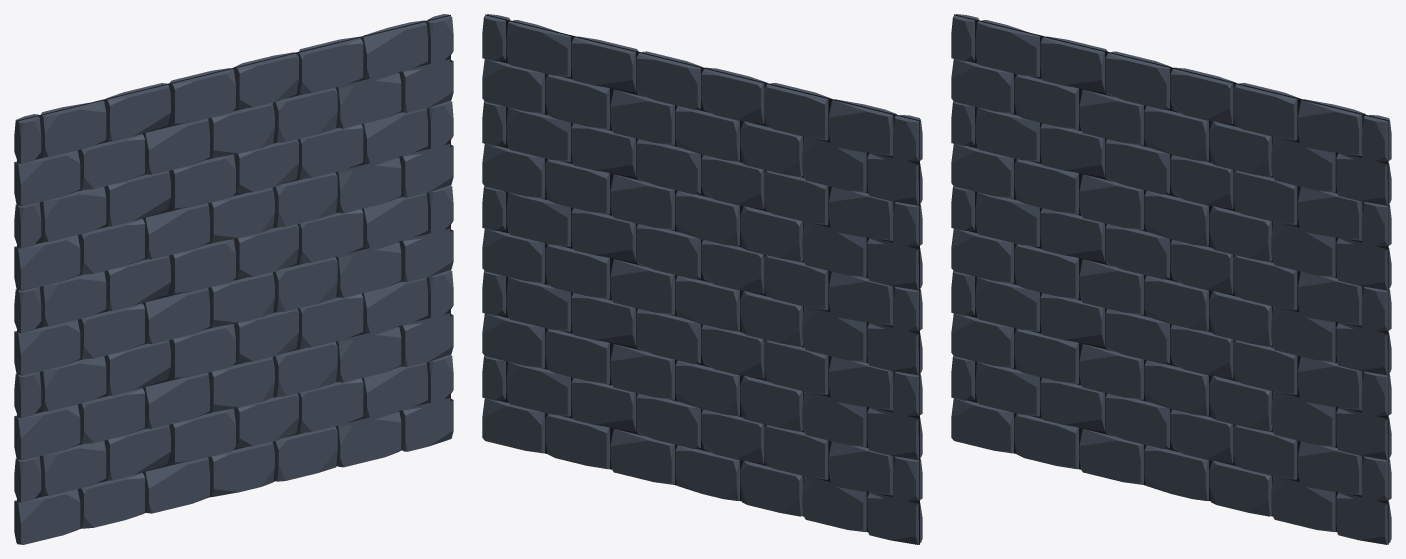
Rendered from StoneWall.fbx.
The picture shows the model from 3 angles, left to right: view 1: azimuth 30°, elevation 25°; view 2: azimuth 150°, elevation 25°; view 3: azimuth 330°, elevation 25°; orthographic projection.
Parts seen in each view (by area): view 1: Plane.008, Plane.002, Plane, Plane.001; view 2: Plane.001, Plane, Plane.002, Plane.008; view 3: Plane.008, Plane, Plane.002, Plane.001.
Boxes of the visible parts, left/top/right/bottom form: Plane.008: left=17, top=16, right=453, bottom=544; Plane.002: left=17, top=69, right=237, bottom=544; Plane: left=197, top=14, right=450, bottom=497; Plane.001: left=14, top=14, right=448, bottom=542; Plane.001: left=482, top=15, right=919, bottom=544; Plane: left=672, top=66, right=919, bottom=544; Plane.002: left=485, top=14, right=728, bottom=485; Plane.008: left=487, top=14, right=922, bottom=542; Plane.008: left=951, top=15, right=1388, bottom=544; Plane: left=1137, top=59, right=1388, bottom=544; Plane.002: left=954, top=14, right=1177, bottom=485; Plane.001: left=956, top=14, right=1391, bottom=542.
Bounding box in the file's own units: 1070 × 999 × 28.88.
